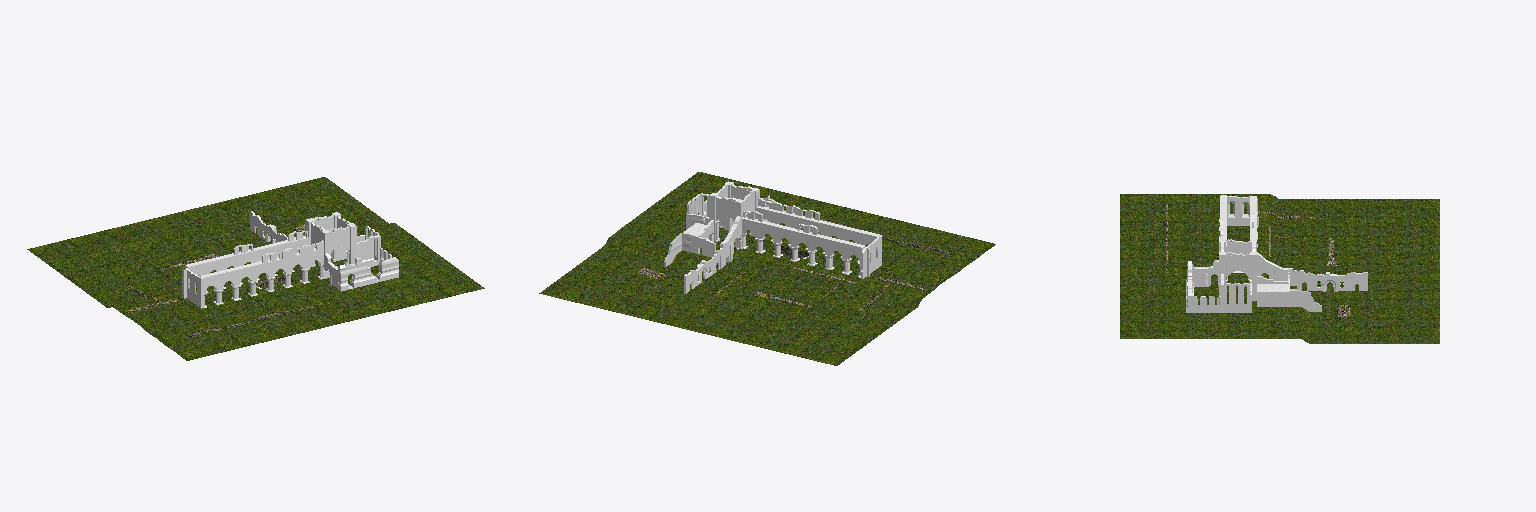
3 views of the same model, side by side, from view 1: azimuth 30°, elevation 25°; view 2: azimuth 150°, elevation 25°; view 3: azimuth 270°, elevation 25° (orthographic).
Visible parts, largest first — view 1: Terrain, monastry; view 2: Terrain, monastry; view 3: Terrain, monastry.
Boxes of the visible parts, <box> form: Terrain: <box>27,177,484,360</box>; monastry: <box>182,211,398,308</box>; Terrain: <box>539,172,995,365</box>; monastry: <box>664,181,881,293</box>; Terrain: <box>1120,194,1439,343</box>; monastry: <box>1186,195,1367,312</box>.
Bounding box in the file's own units: 3746 × 878 × 3479.
15 materials, 2 textured.